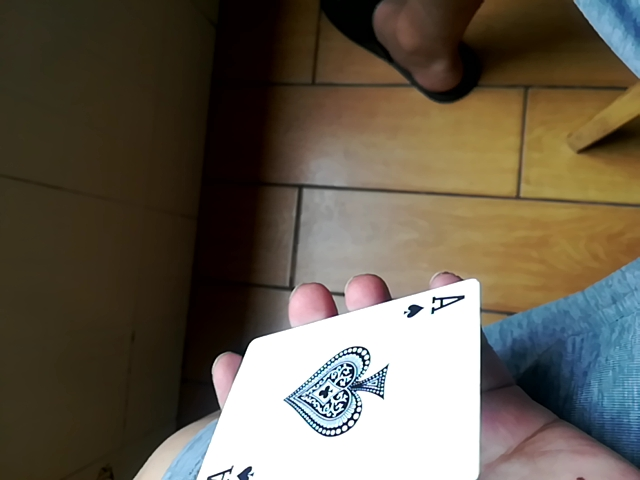ht a: (188, 277, 485, 477)
